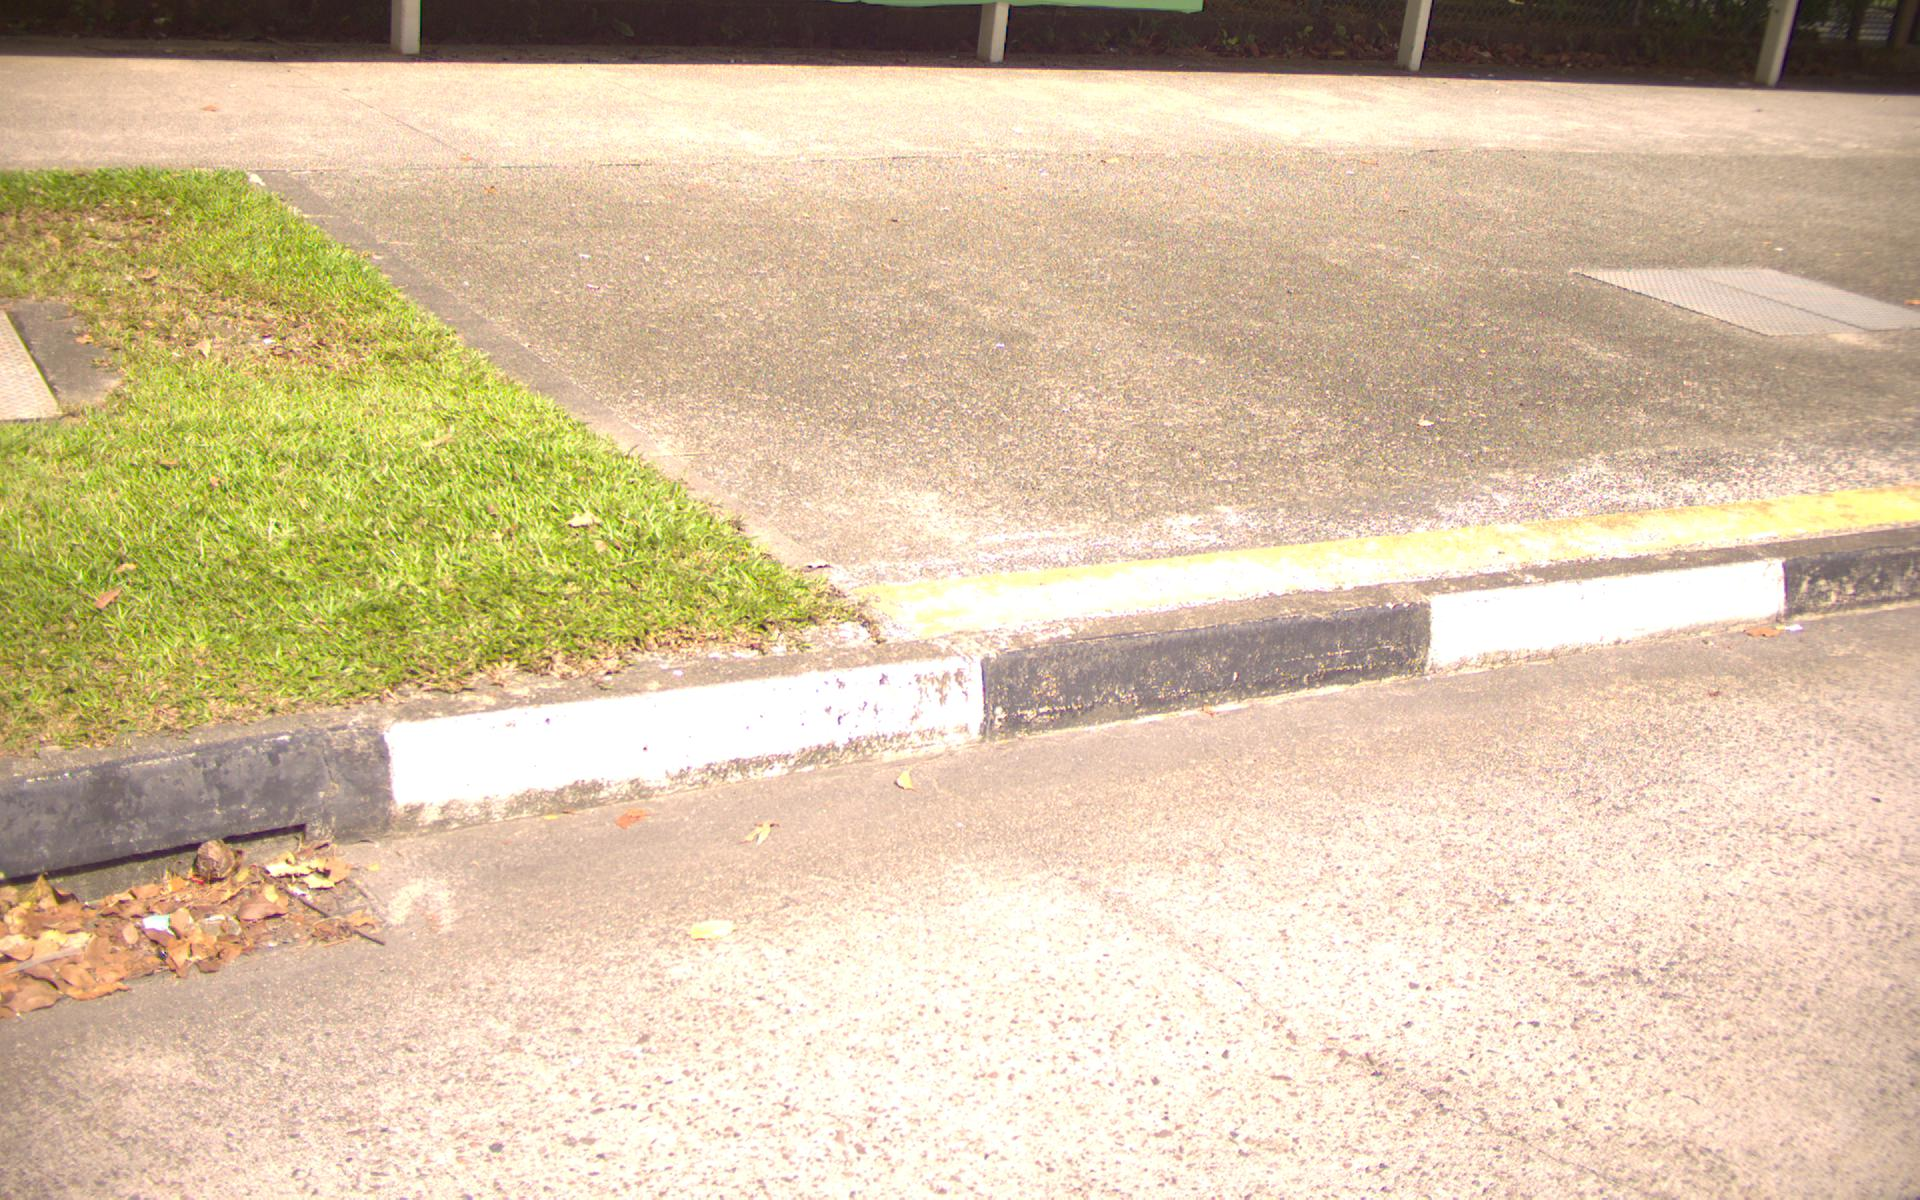curb_dic_low: (1, 792, 399, 1022)
pathway_low: (603, 805, 1920, 1200)
road_turf_low: (734, 66, 1910, 489), (4, 182, 445, 701)
